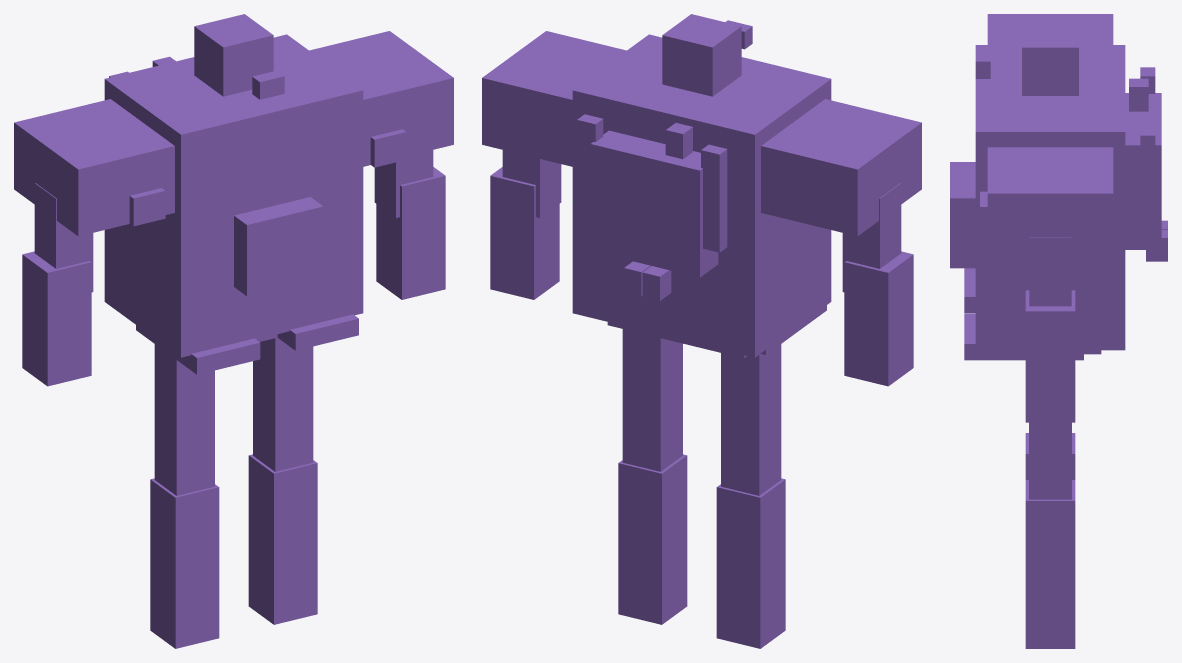
Rendered from mechfall_balteus.obj.
3 views of the same model, side by side, from view 1: azimuth 30°, elevation 25°; view 2: azimuth 150°, elevation 25°; view 3: azimuth 270°, elevation 25° (orthographic). The views are drawn at different scales.
Visible parts, largest first — view 1: mechfall_balteus; view 2: mechfall_balteus; view 3: mechfall_balteus.
Boxes of the visible parts, x1=… form: mechfall_balteus: x1=14, y1=14, x2=453, y2=648; mechfall_balteus: x1=482, y1=14, x2=921, y2=648; mechfall_balteus: x1=950, y1=14, x2=1167, y2=648.
Bounding box in the file's own units: 5.98 × 8.49 × 2.9.
